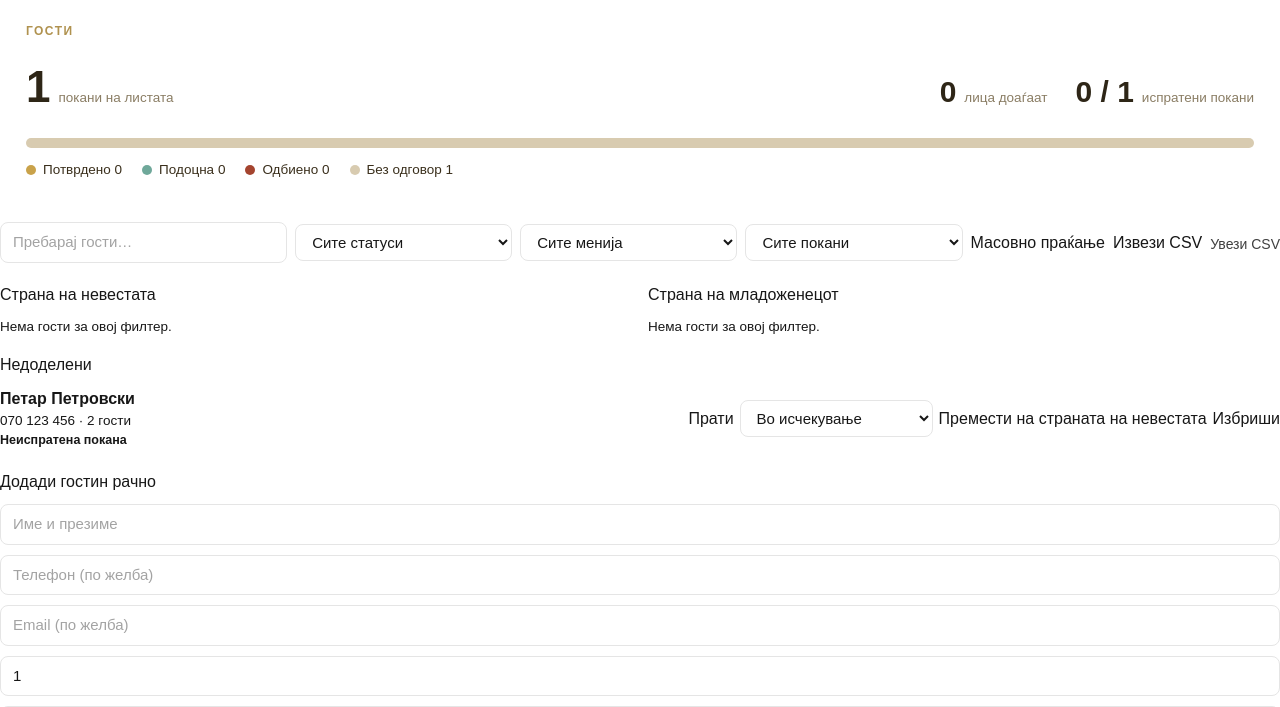
it: GuestsClient sending invitations (A9) › opens WhatsApp with the personal message and marks the guest sent
The image size is (1280, 707).
Click the button with aria-label "Прати покана на Петар Петровски" at (711, 418), box x1=688 y1=406 x2=734 y2=430
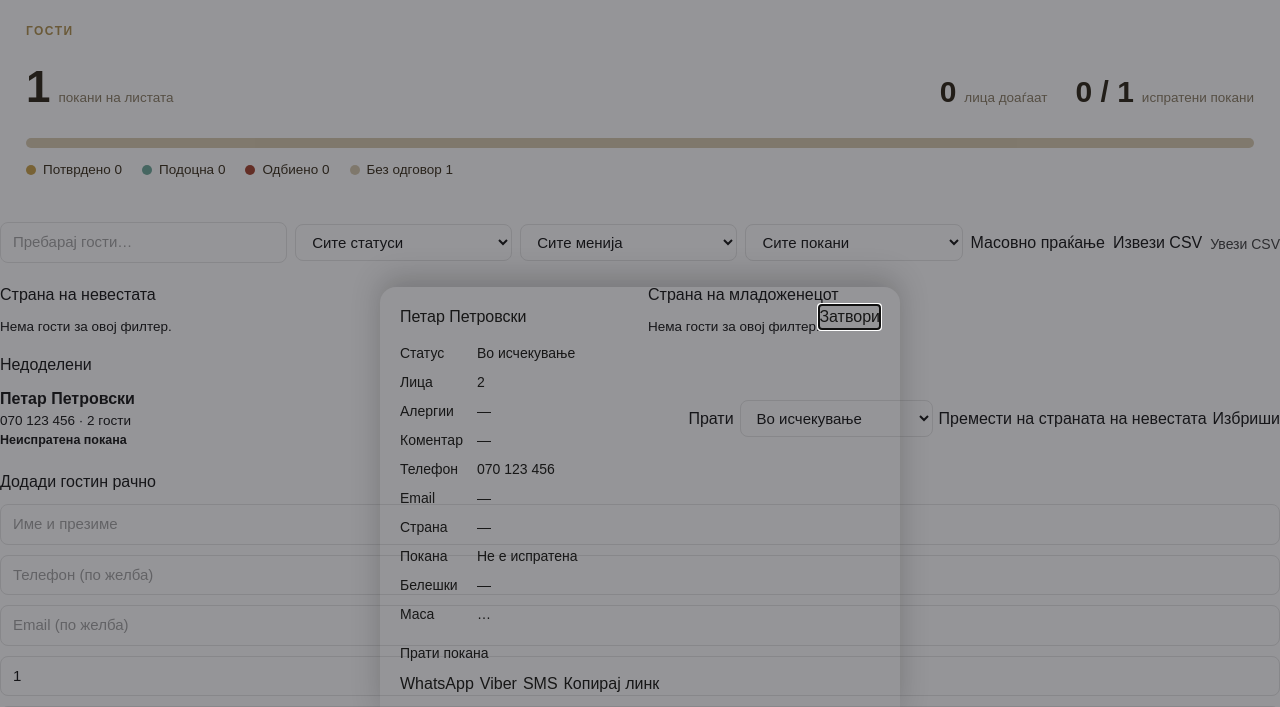
Click the link "WhatsApp" at (437, 684), box x1=400 y1=672 x2=474 y2=696
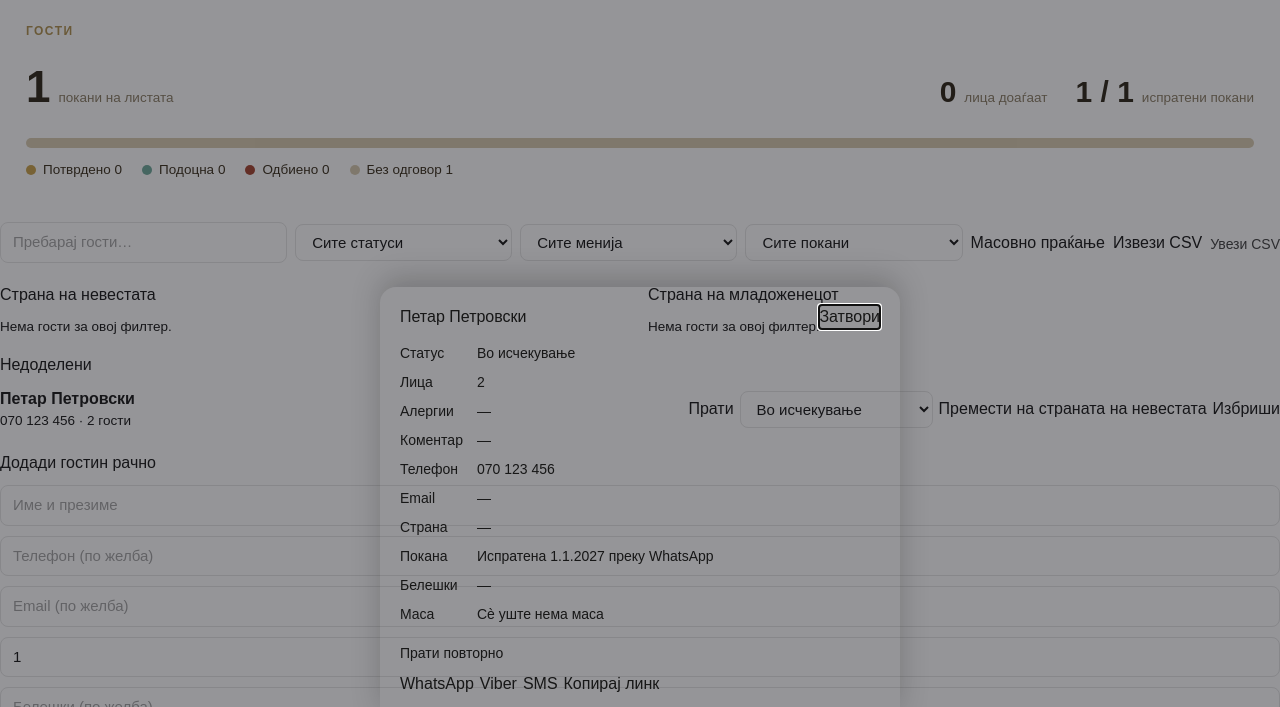
Check: the text "Неиспратена покана" is gone
Check: the text "Испратена 1.1.2027 преку WhatsApp" is shown, box x1=477 y1=548 x2=714 y2=564
